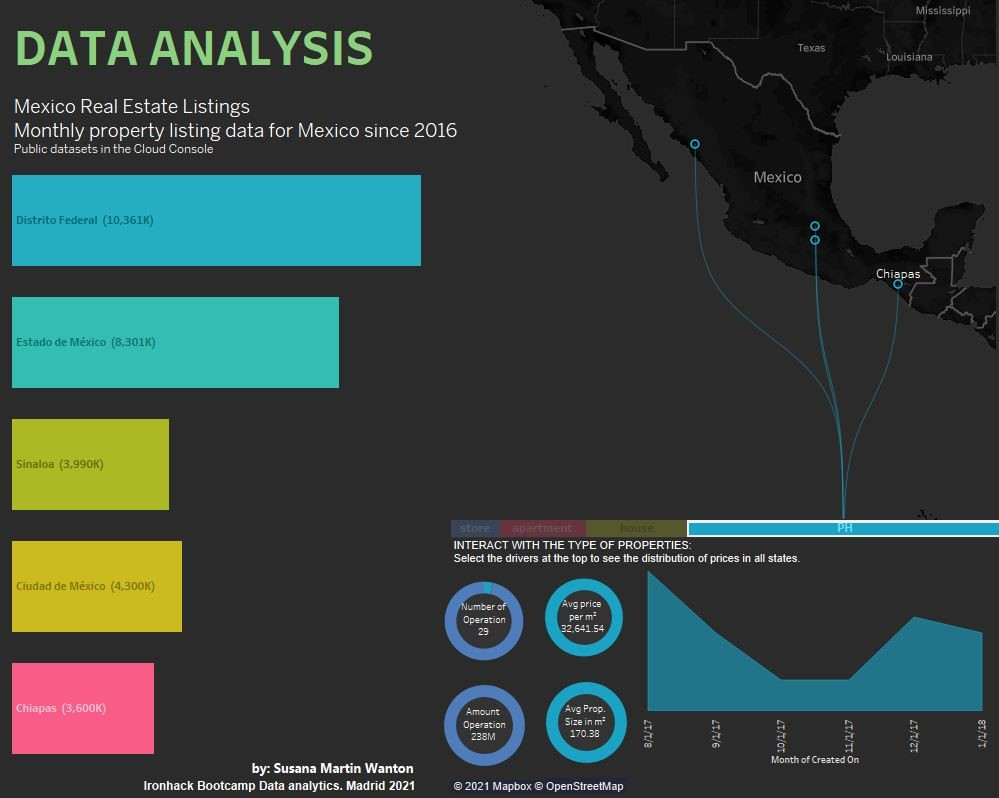

This screenshot's page, from the dashboard's own definition file:
{"tool":"tableau","page":{"name":"Dashboard 1","canvas":[1000,800],"ordinal":0},"visuals":[{"type":"worksheet","box":[11,6,539,159]},{"type":"worksheet","title":"Estados","mark":"Automatic","rows":["state_name"],"cols":["price"],"box":[12,160,429,609]},{"type":"worksheet","box":[451,537,541,30]},{"type":"worksheet","title":"Operation/date","mark":"Area","rows":["operation"],"cols":["created_on"],"box":[631,555,368,218]},{"type":"worksheet","title":"KPI 1 (3)","mark":"Pie","cols":["Calculation_804455526848184341","Calculation_804455526848446487"],"box":[525,565,118,105]},{"type":"worksheet","title":"KPI 1","mark":"Pie","cols":["Calculation_804455526848184341","Calculation_804455526848446487"],"box":[429,568,110,106]},{"type":"worksheet","title":"KPI 1 (4)","mark":"Pie","cols":["Calculation_804455526848184341","Calculation_804455526848446487"],"box":[531,668,111,109]},{"type":"worksheet","title":"KPI 1 (2)","mark":"Pie","cols":["Calculation_804455526848184341","Calculation_804455526848446487"],"box":[423,671,123,109]},{"type":"worksheet","box":[249,758,257,26]},{"type":"worksheet","box":[141,775,350,22]}]}

Visuals, with their boxes in screenshot pixels (x1, y1, x2, y2), scaled from the page's 1000x800 canvas onto the 999x798 screenshot:
worksheet: (x1=11, y1=6, x2=549, y2=165)
"Estados" worksheet: (x1=12, y1=160, x2=441, y2=767)
worksheet: (x1=451, y1=536, x2=991, y2=566)
"Operation/date" worksheet (Area marks): (x1=630, y1=554, x2=998, y2=771)
"KPI 1 (3)" worksheet (Pie marks): (x1=524, y1=564, x2=642, y2=668)
"KPI 1" worksheet (Pie marks): (x1=429, y1=567, x2=538, y2=672)
"KPI 1 (4)" worksheet (Pie marks): (x1=530, y1=666, x2=641, y2=775)
"KPI 1 (2)" worksheet (Pie marks): (x1=423, y1=669, x2=545, y2=778)
worksheet: (x1=249, y1=756, x2=505, y2=782)
worksheet: (x1=141, y1=773, x2=491, y2=795)
